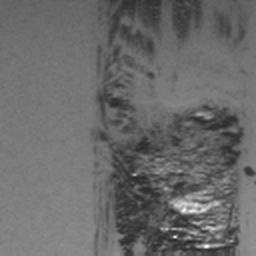Slag inclusion: (96, 0, 256, 256), (216, 0, 248, 46), (93, 230, 100, 256), (146, 68, 156, 81)
